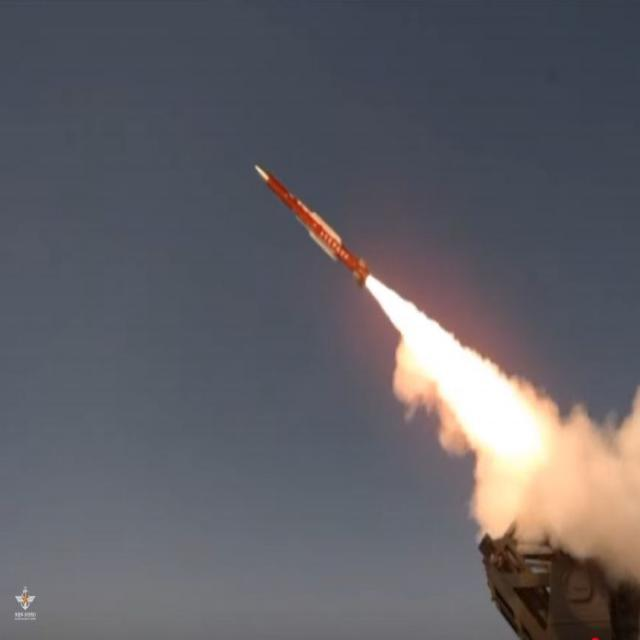missile: (244, 156, 376, 283)
